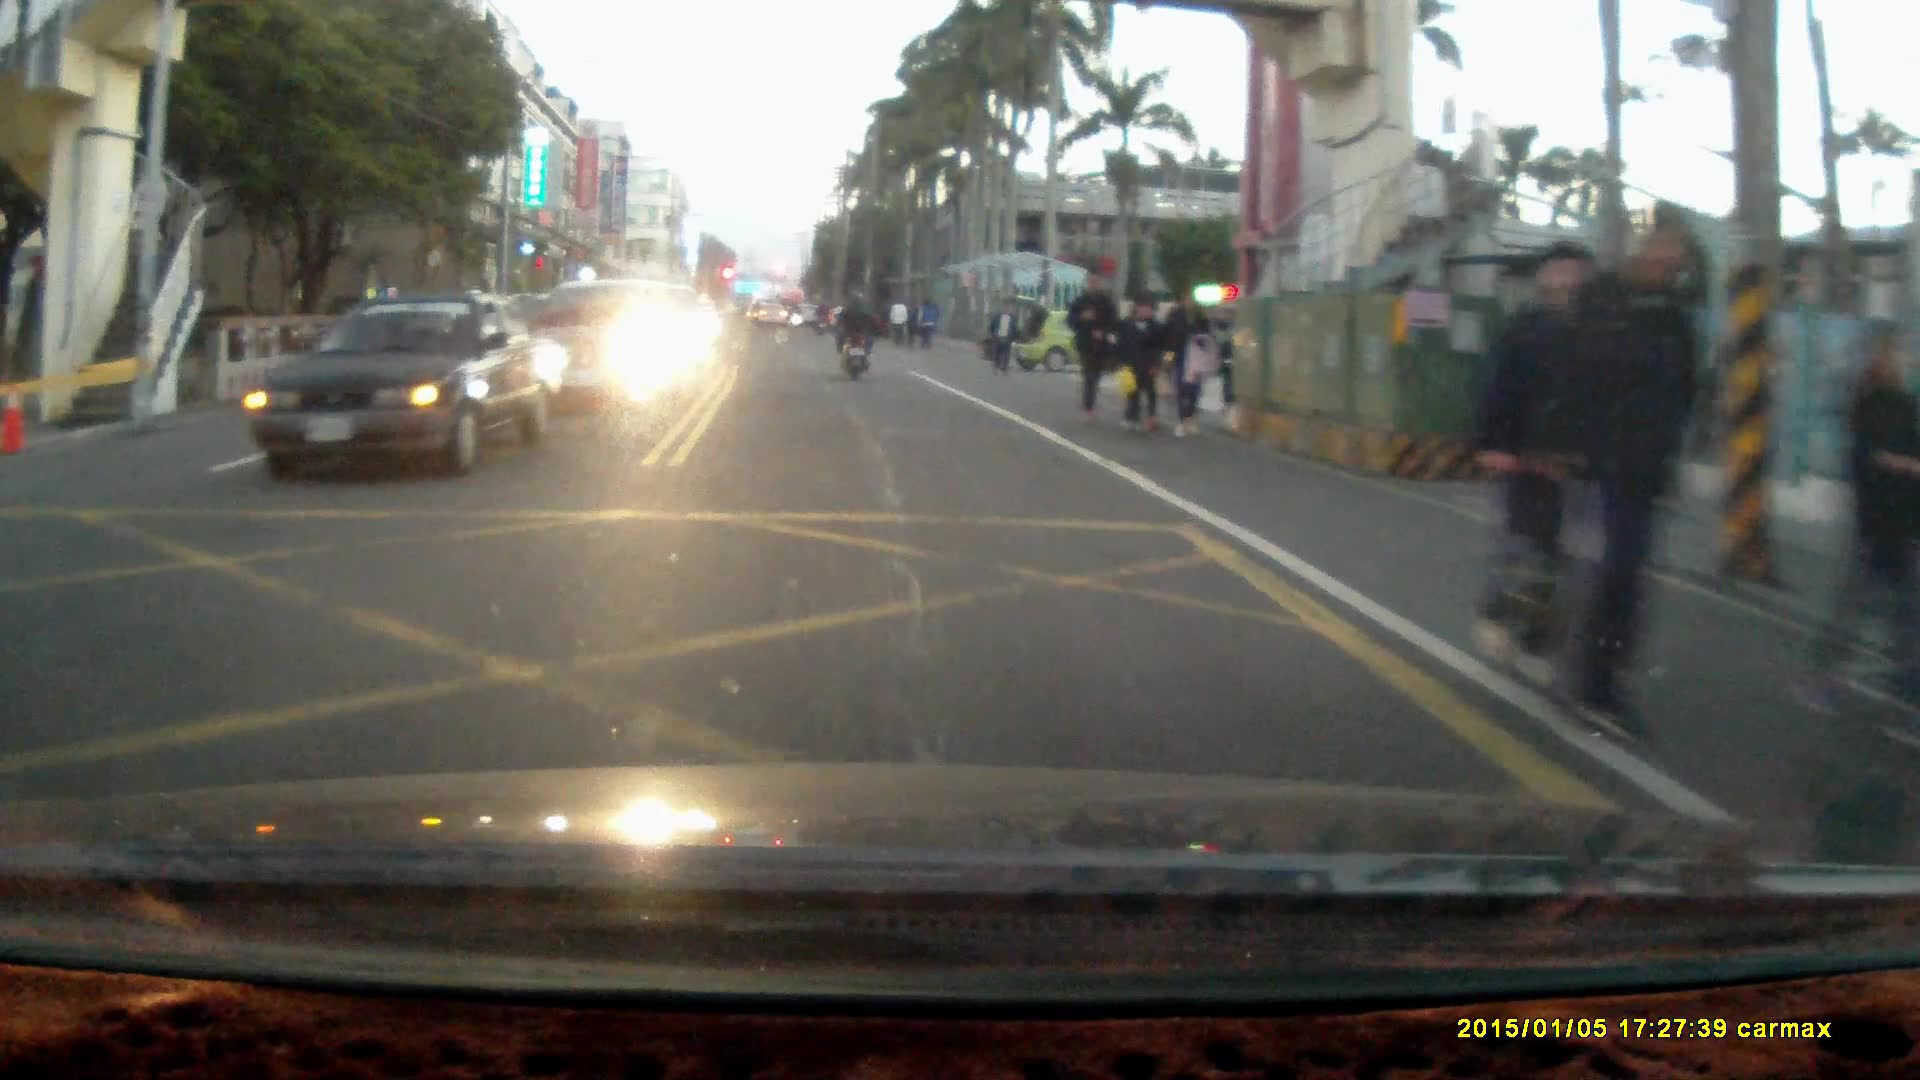pedestrian: (1524, 199, 1701, 749), (1470, 243, 1603, 690), (1789, 309, 1920, 733), (1066, 267, 1119, 429), (1162, 286, 1215, 436), (1114, 296, 1168, 429), (985, 299, 1014, 376)
rider: (832, 286, 873, 379)
vehicle: (242, 296, 566, 475), (517, 279, 692, 410), (1001, 299, 1158, 373)
